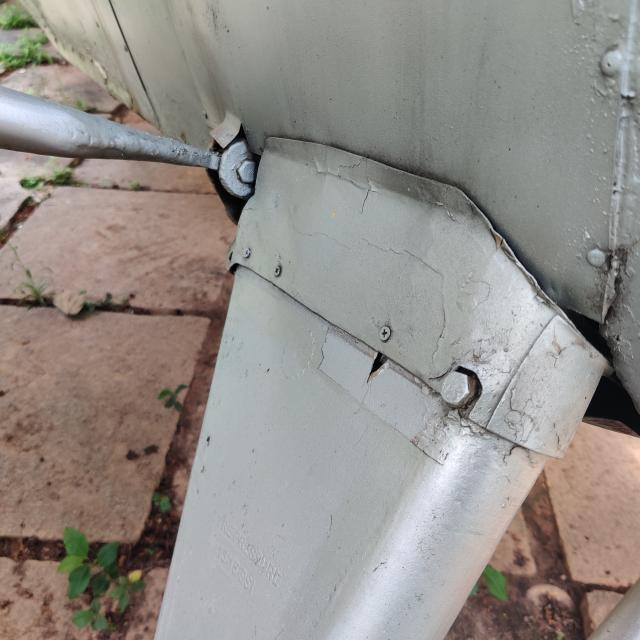Crack: (369, 353, 389, 382)
